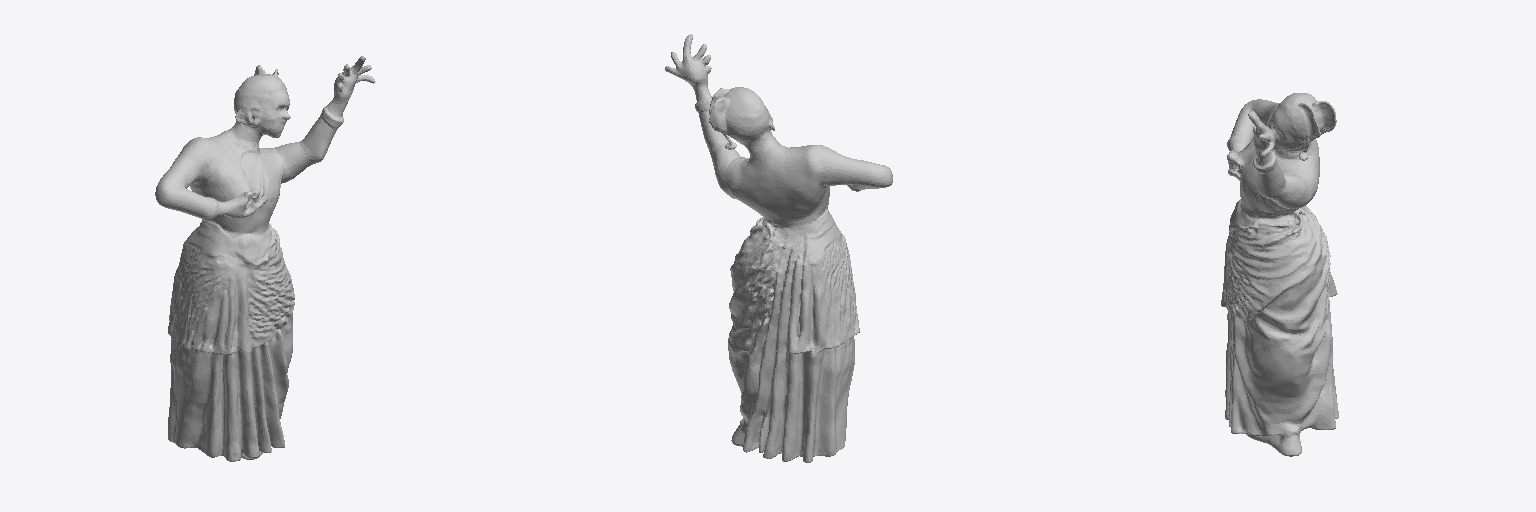
File: mohini.obj
3 renders of one model, left to right at view 1: azimuth 30°, elevation 25°; view 2: azimuth 150°, elevation 25°; view 3: azimuth 270°, elevation 25°, orthographic.
Visible parts, largest first — view 1: tmp6uj1unek.ply; view 2: tmp6uj1unek.ply; view 3: tmp6uj1unek.ply.
Part boxes in pixels (x1,y1,x2,y2): tmp6uj1unek.ply: (155, 56, 375, 461); tmp6uj1unek.ply: (665, 34, 892, 462); tmp6uj1unek.ply: (1221, 93, 1338, 456).
Size of the model in its own units: 1.22 by 1.97 by 0.5603.